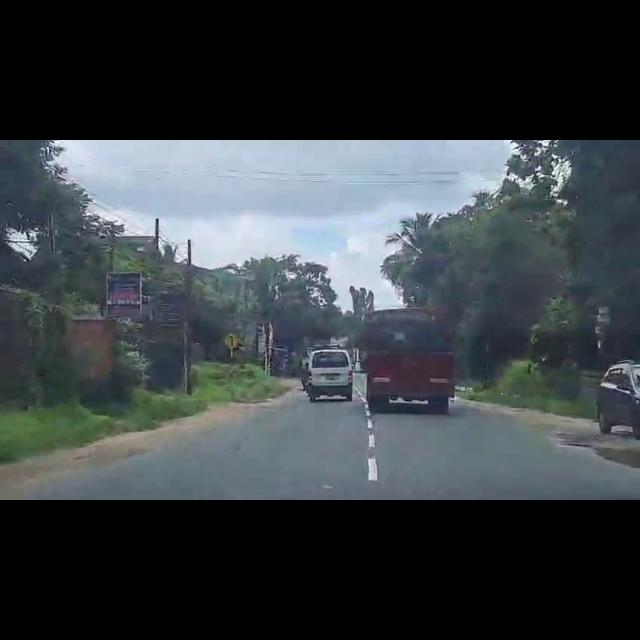illegal overtaking: (332, 419, 408, 495)
illegal parking: (362, 308, 452, 407)
illegal u turn: (308, 347, 352, 401)
